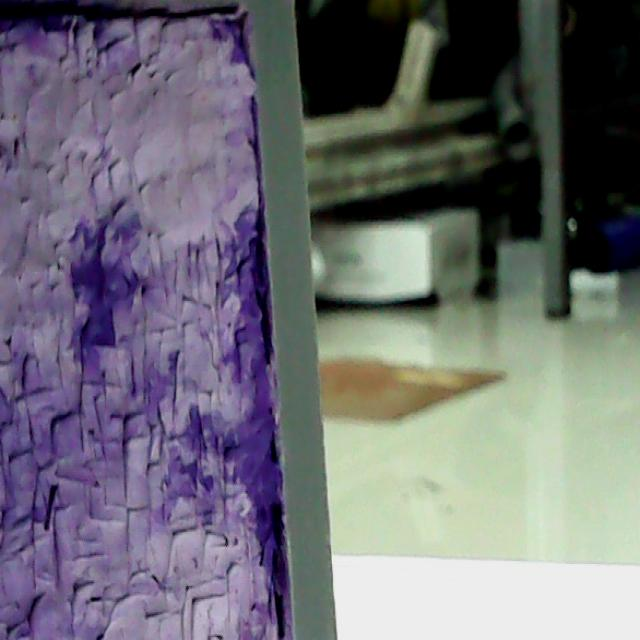block: (0, 0, 351, 640)
